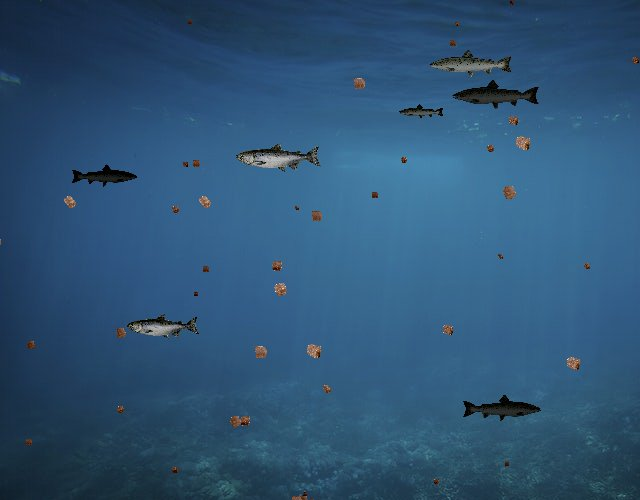Fish: (452, 79, 542, 111), (428, 48, 514, 79), (236, 142, 322, 173), (462, 393, 543, 423), (128, 314, 201, 340), (70, 164, 138, 188), (398, 104, 445, 121)
Pellet: (247, 339, 274, 366), (347, 71, 372, 96), (233, 410, 256, 432), (368, 188, 382, 202), (430, 475, 443, 488), (179, 158, 192, 171), (452, 18, 462, 28)
